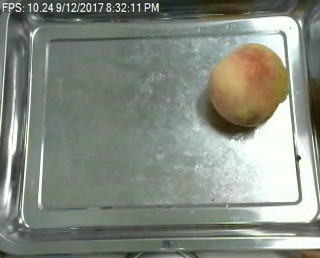Peach: (207, 41, 290, 127)
